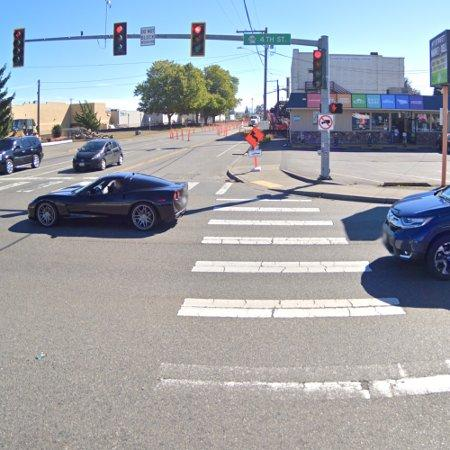crosswalks: (156, 196, 450, 401)
